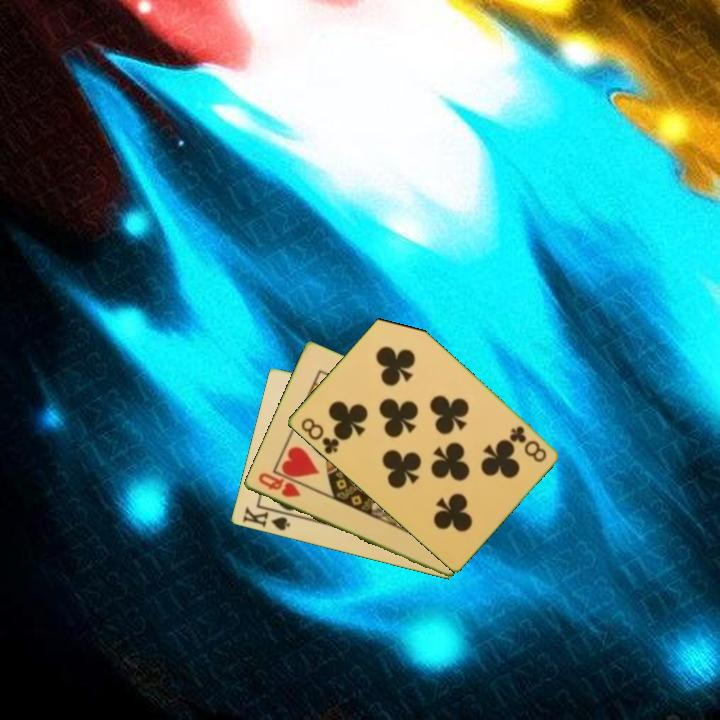8c: (297, 414, 342, 457), (505, 422, 549, 465)
Ks: (239, 504, 293, 534)
Qh: (254, 469, 303, 500)
